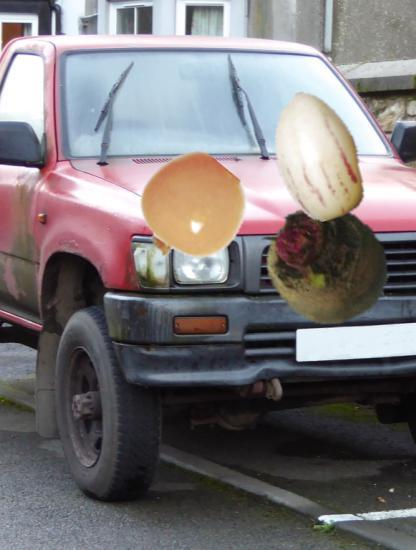Beetroot: (254, 191, 399, 336)
Pepino: (251, 90, 383, 222)
Physalis: (135, 155, 245, 265)
